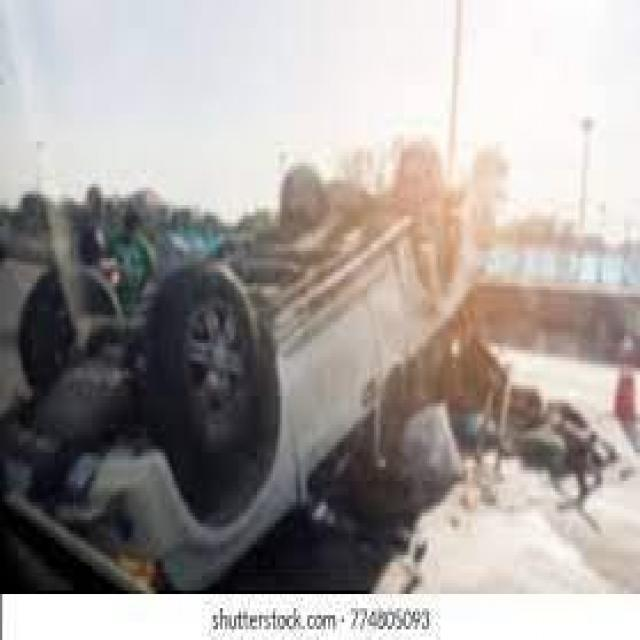accident: (2, 138, 486, 590)
